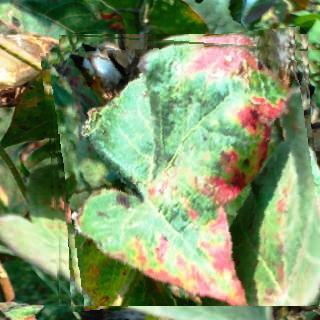blight: (46, 32, 320, 306)
